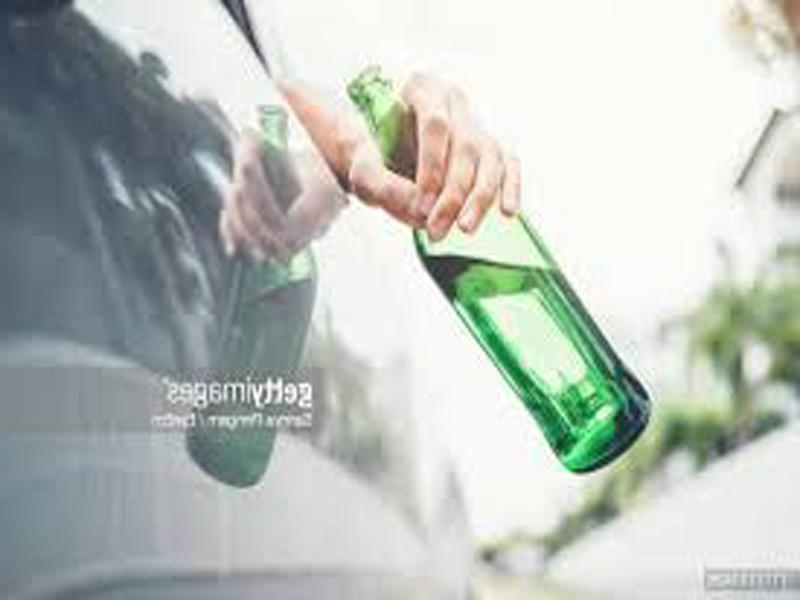Beer: (342, 69, 648, 475)
